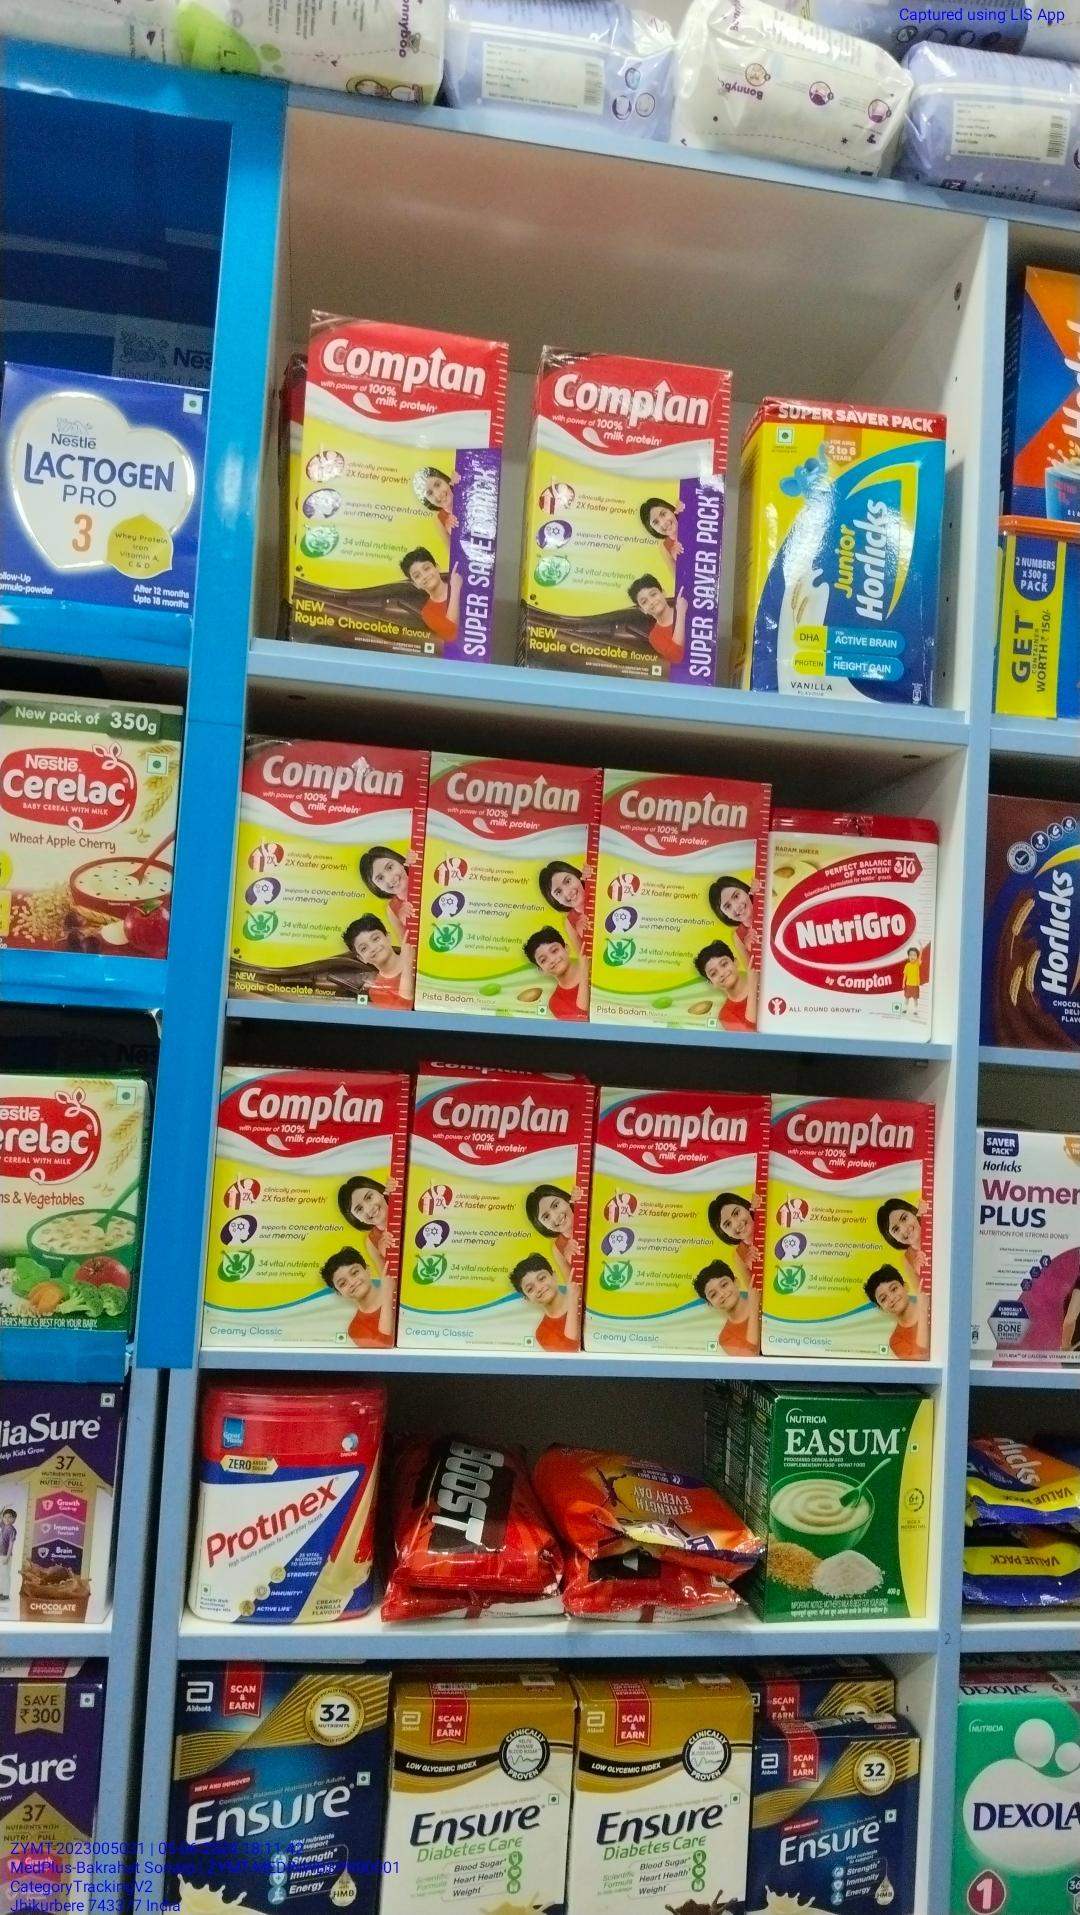COMPLAN_CHOCOLATE_1_KG_PACK: (301, 314, 493, 659), (534, 350, 717, 683)
COMPLAN_CHOCOLATE_500_GMS_PACK: (234, 735, 421, 1009)
COMPLAN_CREAMY_CLASSIC_500_G_PACK: (213, 1065, 401, 1349), (404, 1077, 581, 1345), (589, 1090, 766, 1359), (771, 1098, 937, 1361)
COMPLAN_PISTA_BADAM_500_GMS_PACK: (424, 752, 597, 1022), (601, 769, 762, 1034)
ENSURE_VANILLA_400_G_PACK: (172, 1665, 378, 1908)
PROTINEX_VANILLA_400_G_JAR: (197, 1389, 379, 1626)
